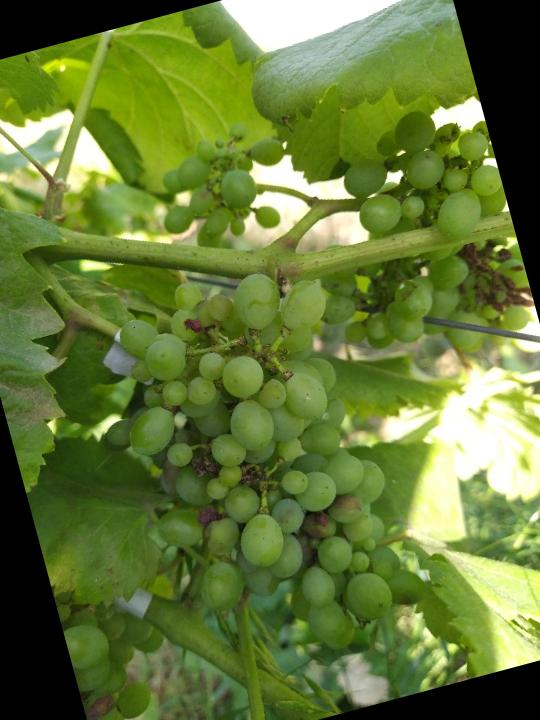grape: (69, 240, 443, 702), (281, 94, 540, 387), (141, 113, 309, 262)
